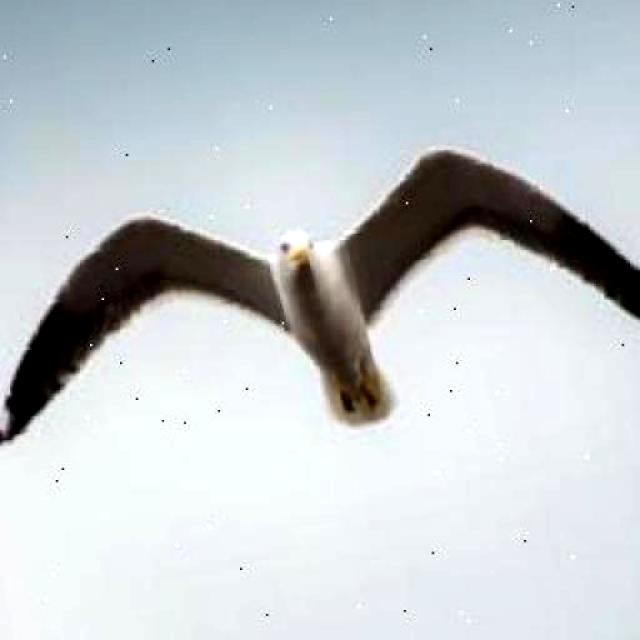airplane: (0, 95, 640, 519)
